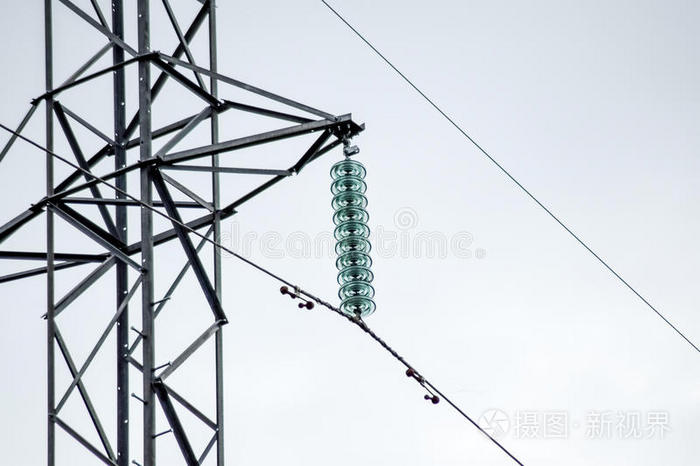insulator: (331, 158, 379, 317)
